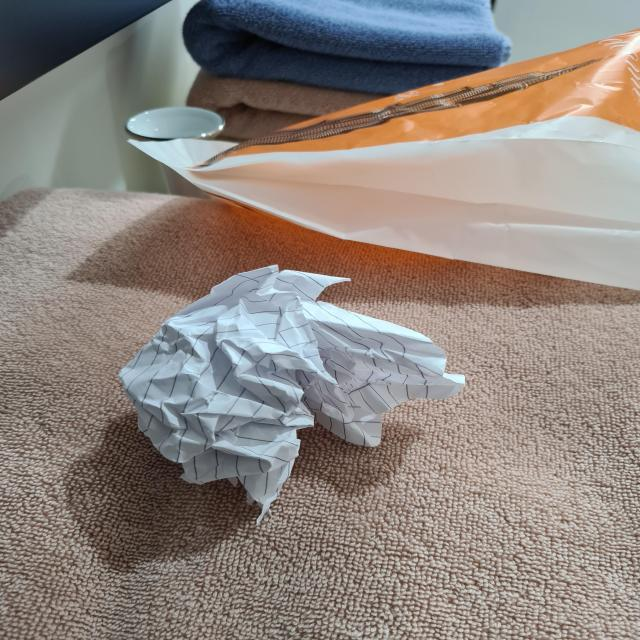cardboard paper: (118, 264, 462, 517)
